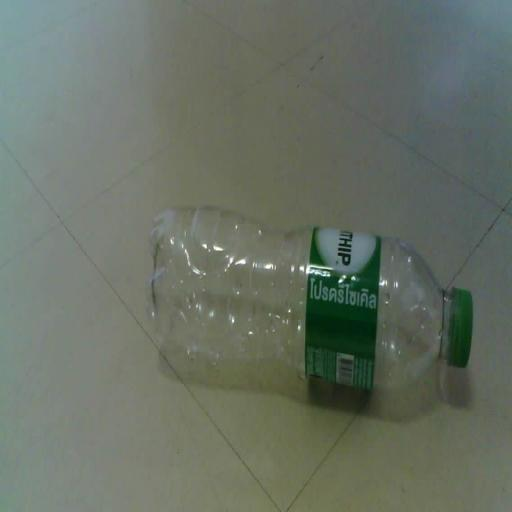bottle: (129, 190, 477, 411)
